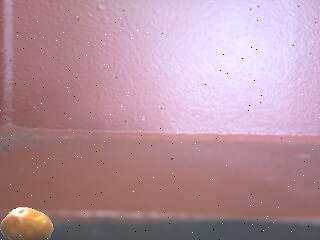Potato: (0, 207, 55, 240)
